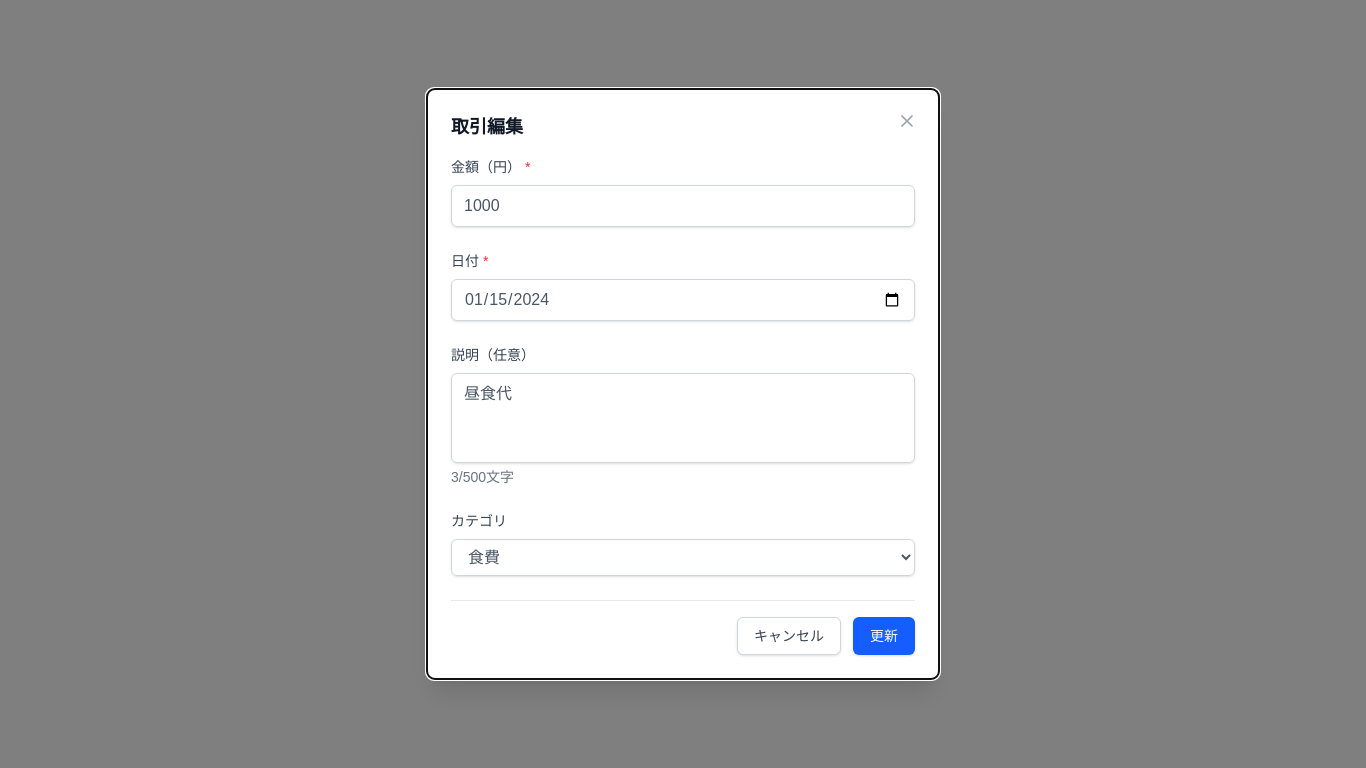
Test case: EditExpenseDialog › ダイアログが開かれた時にエラー状態がクリアされる
// 最初の送信でエラーを発生させる
Click the button "更新" at (884, 636), box [853,617,915,655]
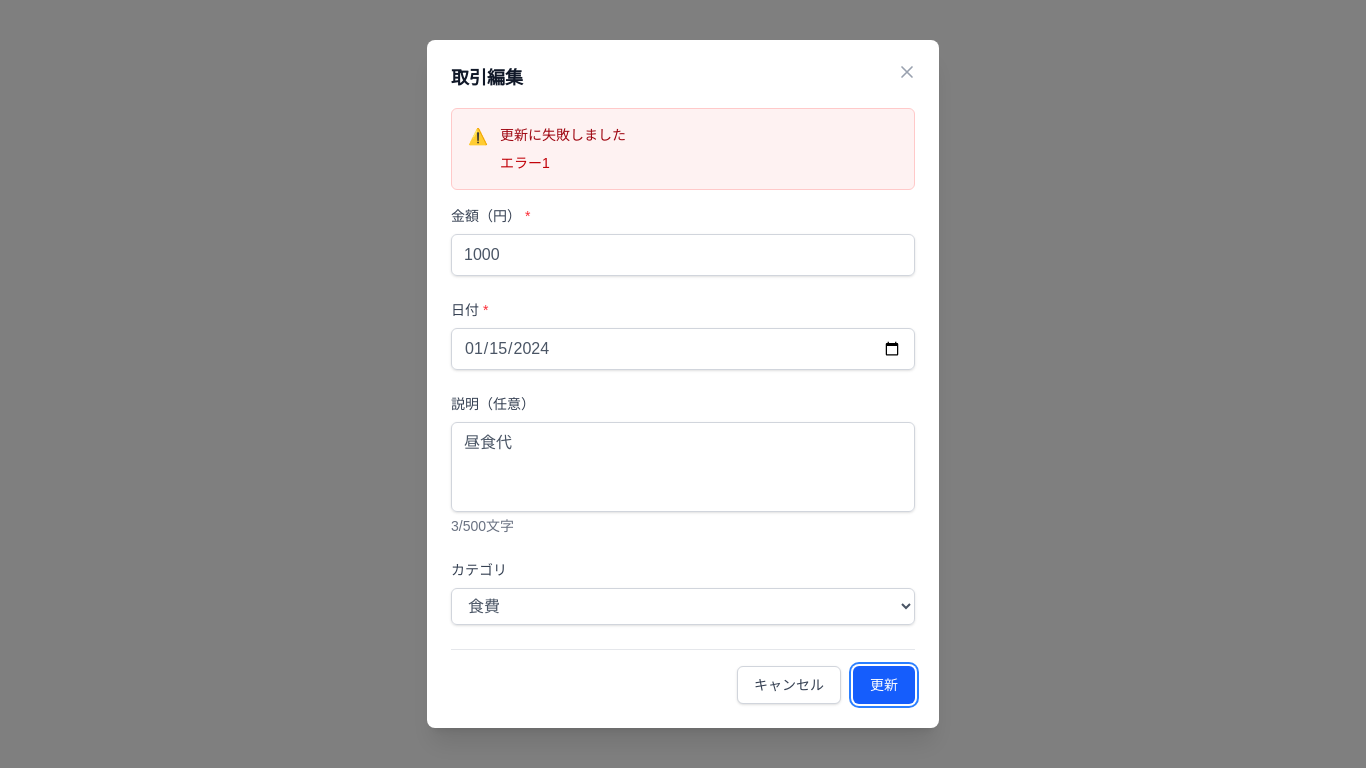
Expected: the text "エラー1" is shown, [500,155,550,171]
